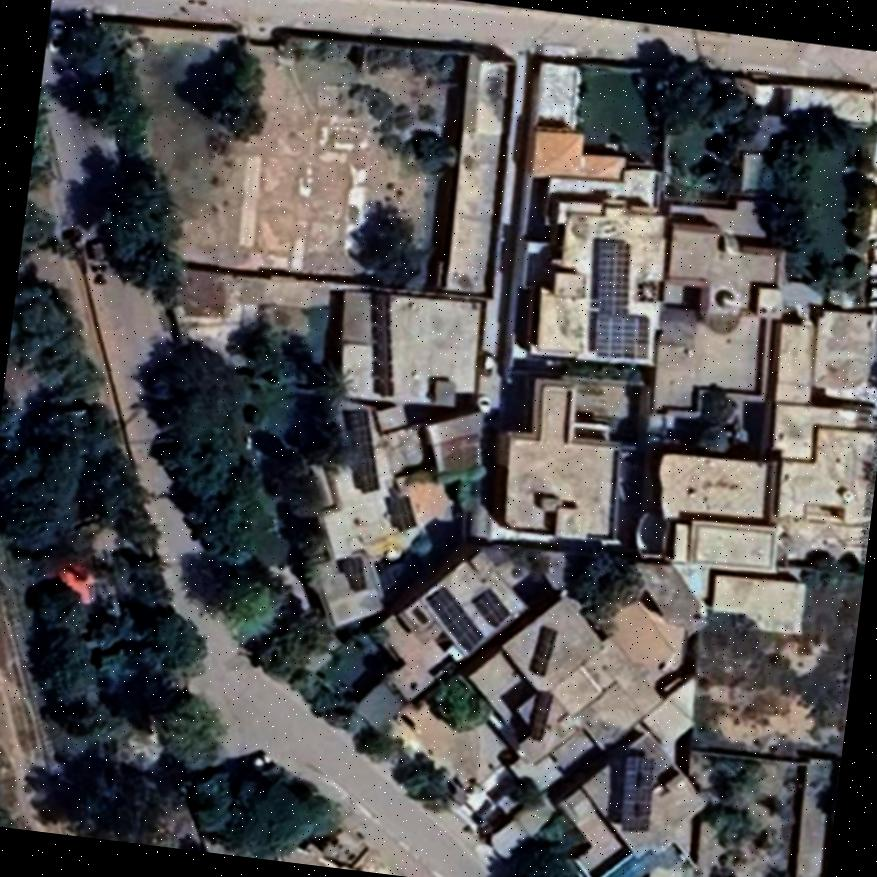Solarpanel: (426, 588, 481, 649), (344, 408, 380, 492), (620, 755, 653, 835), (367, 289, 391, 396), (594, 314, 647, 361), (597, 242, 626, 316), (529, 631, 559, 679), (476, 588, 511, 626), (527, 694, 552, 740), (341, 552, 365, 592), (387, 491, 410, 532)
